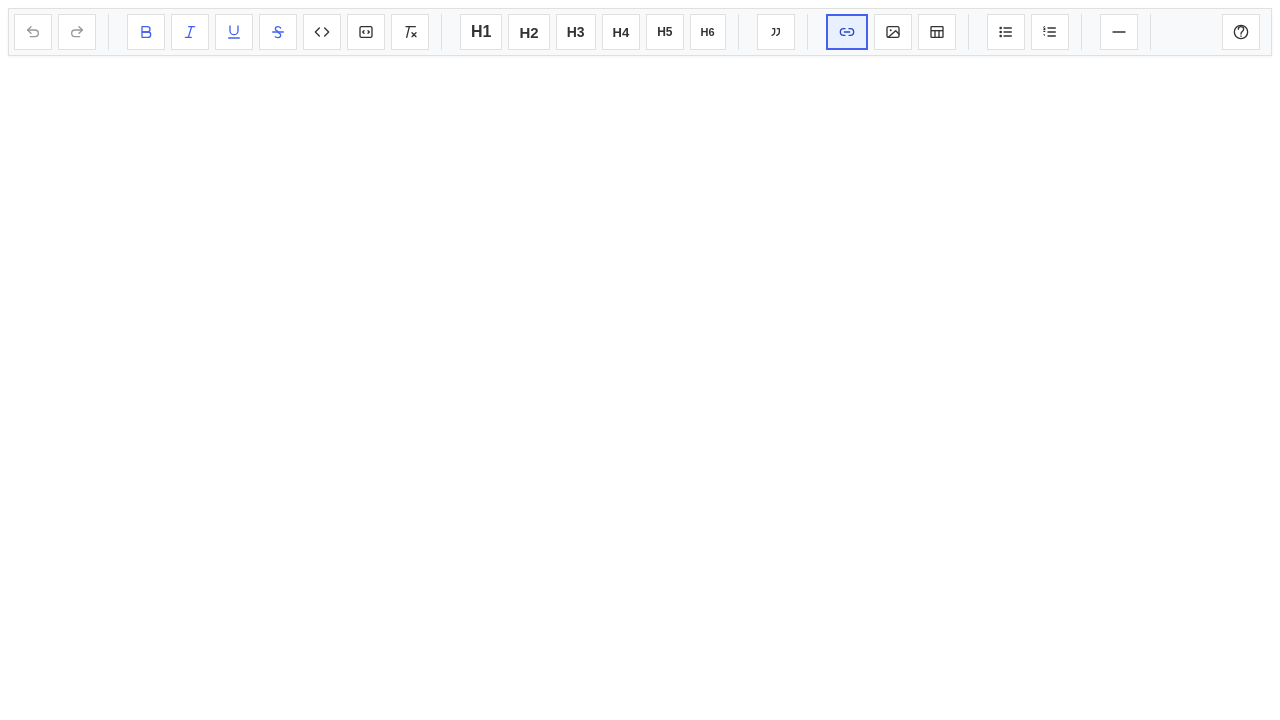
Test case: ToolbarPlugin Component › pre-fills the dialog with the existing link URL and text in edit mode
Click the button named "Edit Link" at point(847, 32), box [826, 14, 868, 50]
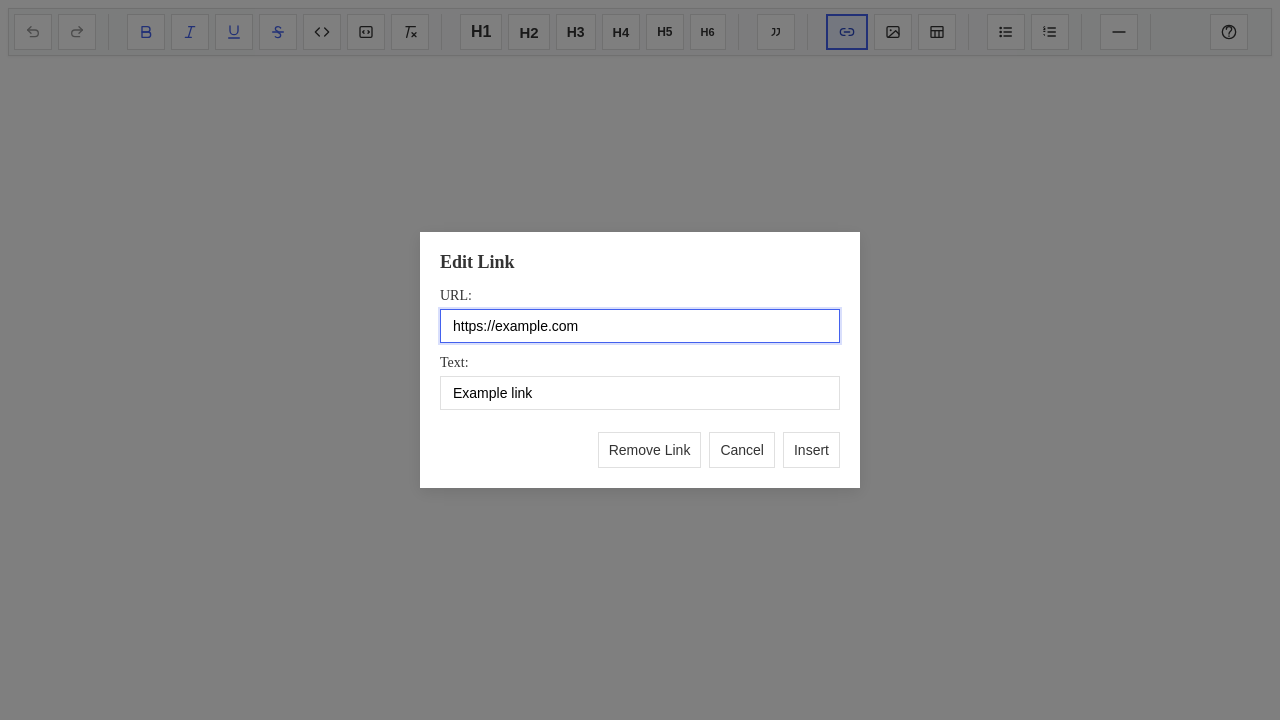
Now the heading "Edit Link" is shown, box [440, 252, 514, 272]
Now the field labelled "URL:" holds "https://example.com", box [440, 309, 840, 343]
Now the field labelled "Text:" holds "Example link", box [440, 376, 840, 410]
